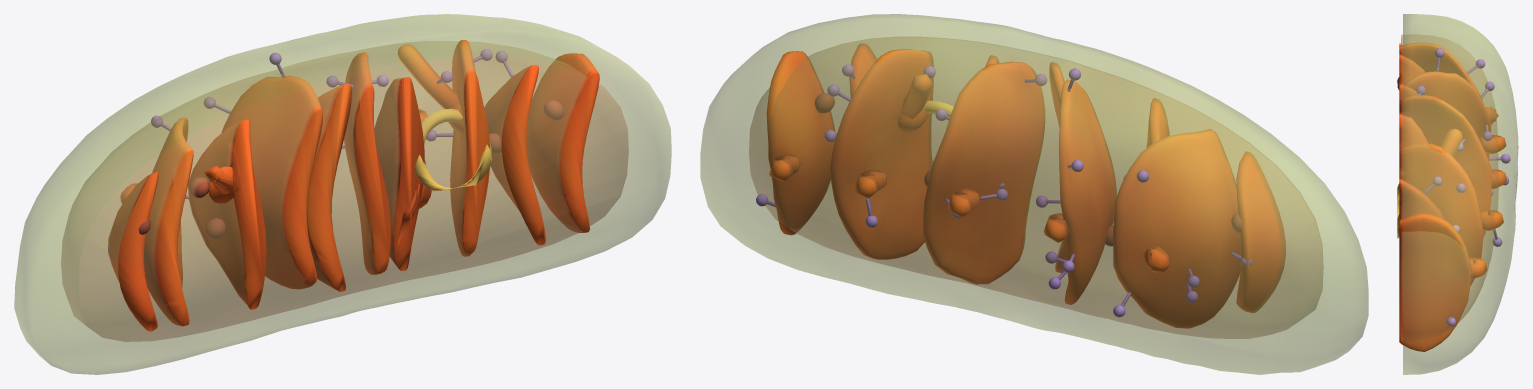
Rendered from mitochondrion-crista-detail.glb.
3 renders of one model, left to right at view 1: azimuth 30°, elevation 25°; view 2: azimuth 150°, elevation 25°; view 3: azimuth 270°, elevation 25°, orthographic. The views are drawn at different scales.
Parts seen in each view (by area): view 1: mitochondrion-crista-detail-outer, mitochondrion-crista-detail-inner, mitochondrion-crista-detail-cristae, mitochondrion-crista-detail-matrix, mitochondrion-crista-detail-synthases; view 2: mitochondrion-crista-detail-outer, mitochondrion-crista-detail-inner, mitochondrion-crista-detail-cristae, mitochondrion-crista-detail-synthases, mitochondrion-crista-detail-matrix; view 3: mitochondrion-crista-detail-outer, mitochondrion-crista-detail-inner, mitochondrion-crista-detail-cristae, mitochondrion-crista-detail-synthases, mitochondrion-crista-detail-matrix.
Part boxes in pixels (box(x1,y1,x2,y2)): mitochondrion-crista-detail-outer: box(14, 14, 671, 374); mitochondrion-crista-detail-inner: box(61, 41, 628, 341); mitochondrion-crista-detail-cristae: box(108, 40, 599, 331); mitochondrion-crista-detail-matrix: box(138, 100, 564, 239); mitochondrion-crista-detail-synthases: box(108, 49, 513, 251); mitochondrion-crista-detail-outer: box(700, 14, 1368, 374); mitochondrion-crista-detail-inner: box(749, 37, 1323, 338); mitochondrion-crista-detail-cristae: box(766, 44, 1285, 328); mitochondrion-crista-detail-synthases: box(756, 64, 1252, 317); mitochondrion-crista-detail-matrix: box(814, 93, 1242, 246); mitochondrion-crista-detail-outer: box(1403, 14, 1518, 374); mitochondrion-crista-detail-inner: box(1401, 34, 1498, 340); mitochondrion-crista-detail-cristae: box(1399, 42, 1506, 351); mitochondrion-crista-detail-synthases: box(1416, 48, 1510, 326); mitochondrion-crista-detail-matrix: box(1397, 77, 1399, 238).
Size of what is drawn, in the model's own units: 5.44 by 2.15 by 1.12.
